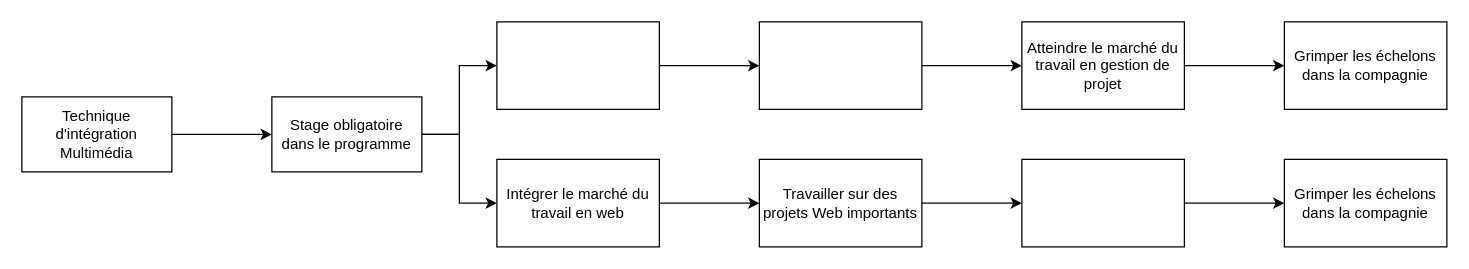
Some shapes in this 1469 by 269 pixel diagram are drawn without their labels. The centre of each missing label's shape, as x and y in pixels:
"Aller à l'université en gestion" belongs at [577,65].
"Obtenir mon baccalauréat" belongs at [840,65].
"Perfectionner ma technique et mes aptitudes" belongs at [1102,202].
